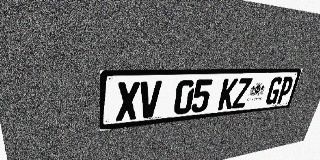0: (173, 80, 196, 115)
5: (191, 79, 213, 113)
G: (264, 77, 284, 105)
K: (217, 78, 239, 110)
P: (275, 77, 295, 104)
V: (138, 81, 162, 119)
X: (116, 81, 140, 121)
Z: (232, 78, 253, 109)
